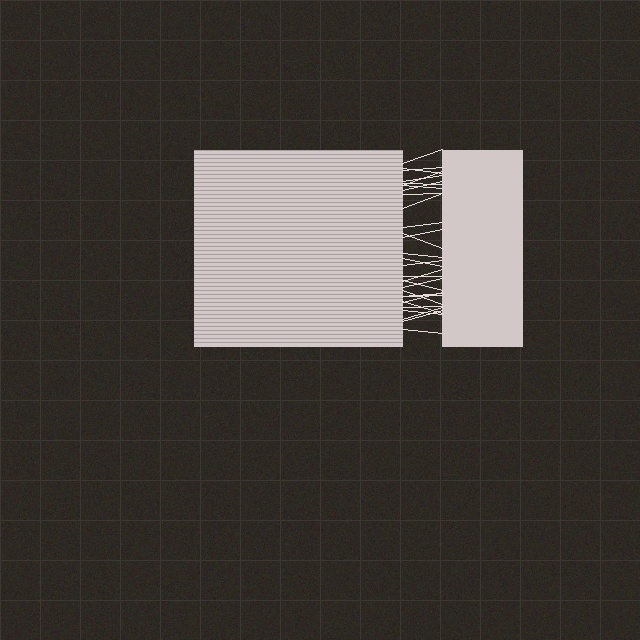stringing: (397, 150, 447, 346)
